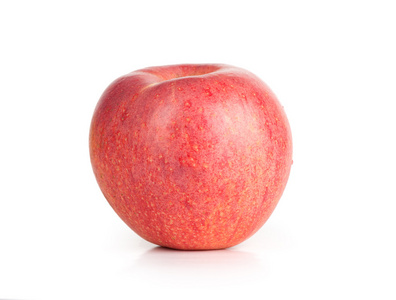apple: (88, 63, 293, 251)
